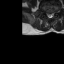CCS_normal: (49, 10, 51, 19)
LFS_stenosis: (53, 9, 55, 15)
LLS_normal: (51, 11, 53, 18)
RFS_severe_stenosis: (44, 9, 46, 15)
RLS_normal: (46, 10, 49, 18)
